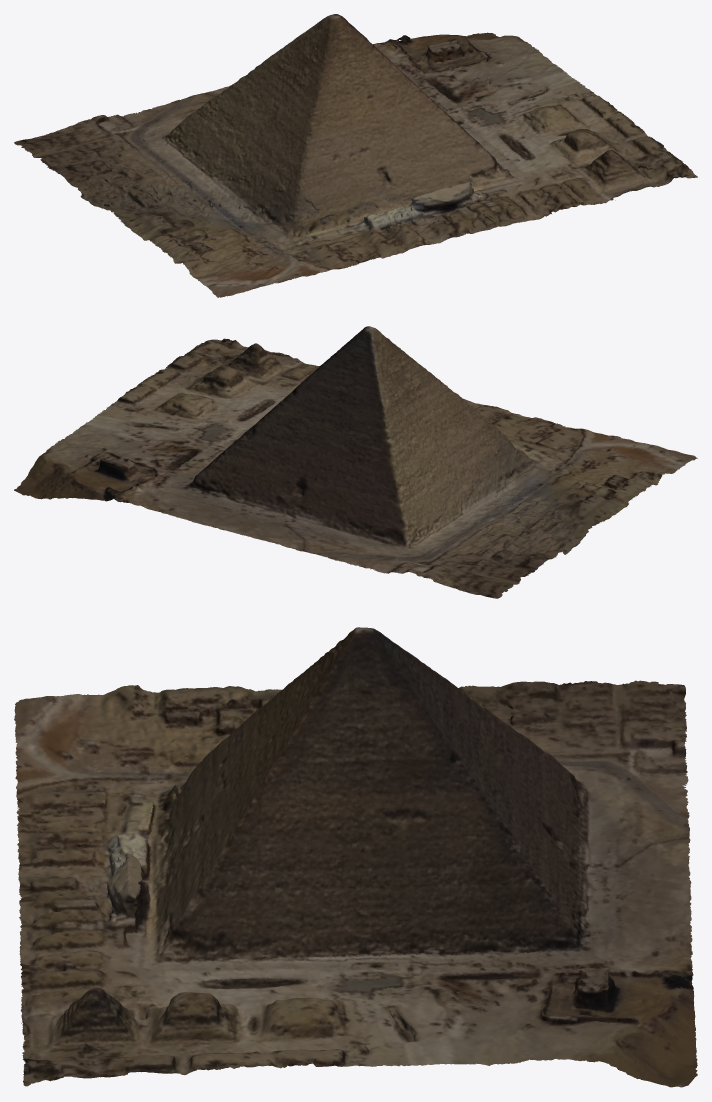
The picture shows the model from 3 angles, top to bottom: view 1: azimuth 30°, elevation 25°; view 2: azimuth 150°, elevation 25°; view 3: azimuth 270°, elevation 25°; orthographic projection. The views are drawn at different scales.
Visible parts, largest first — view 1: mat-0 (×4); view 2: mat-0 (×4); view 3: mat-0 (×4).
Part boxes in pixels (box(x1,y1,x2,y2)): mat-0 (×4): box(14, 14, 697, 297); mat-0 (×4): box(14, 326, 697, 598); mat-0 (×4): box(14, 627, 697, 1087).
Size of the model in its own units: 3.99 by 1.23 by 2.95.
Materials: 1 (1 with a texture image).
